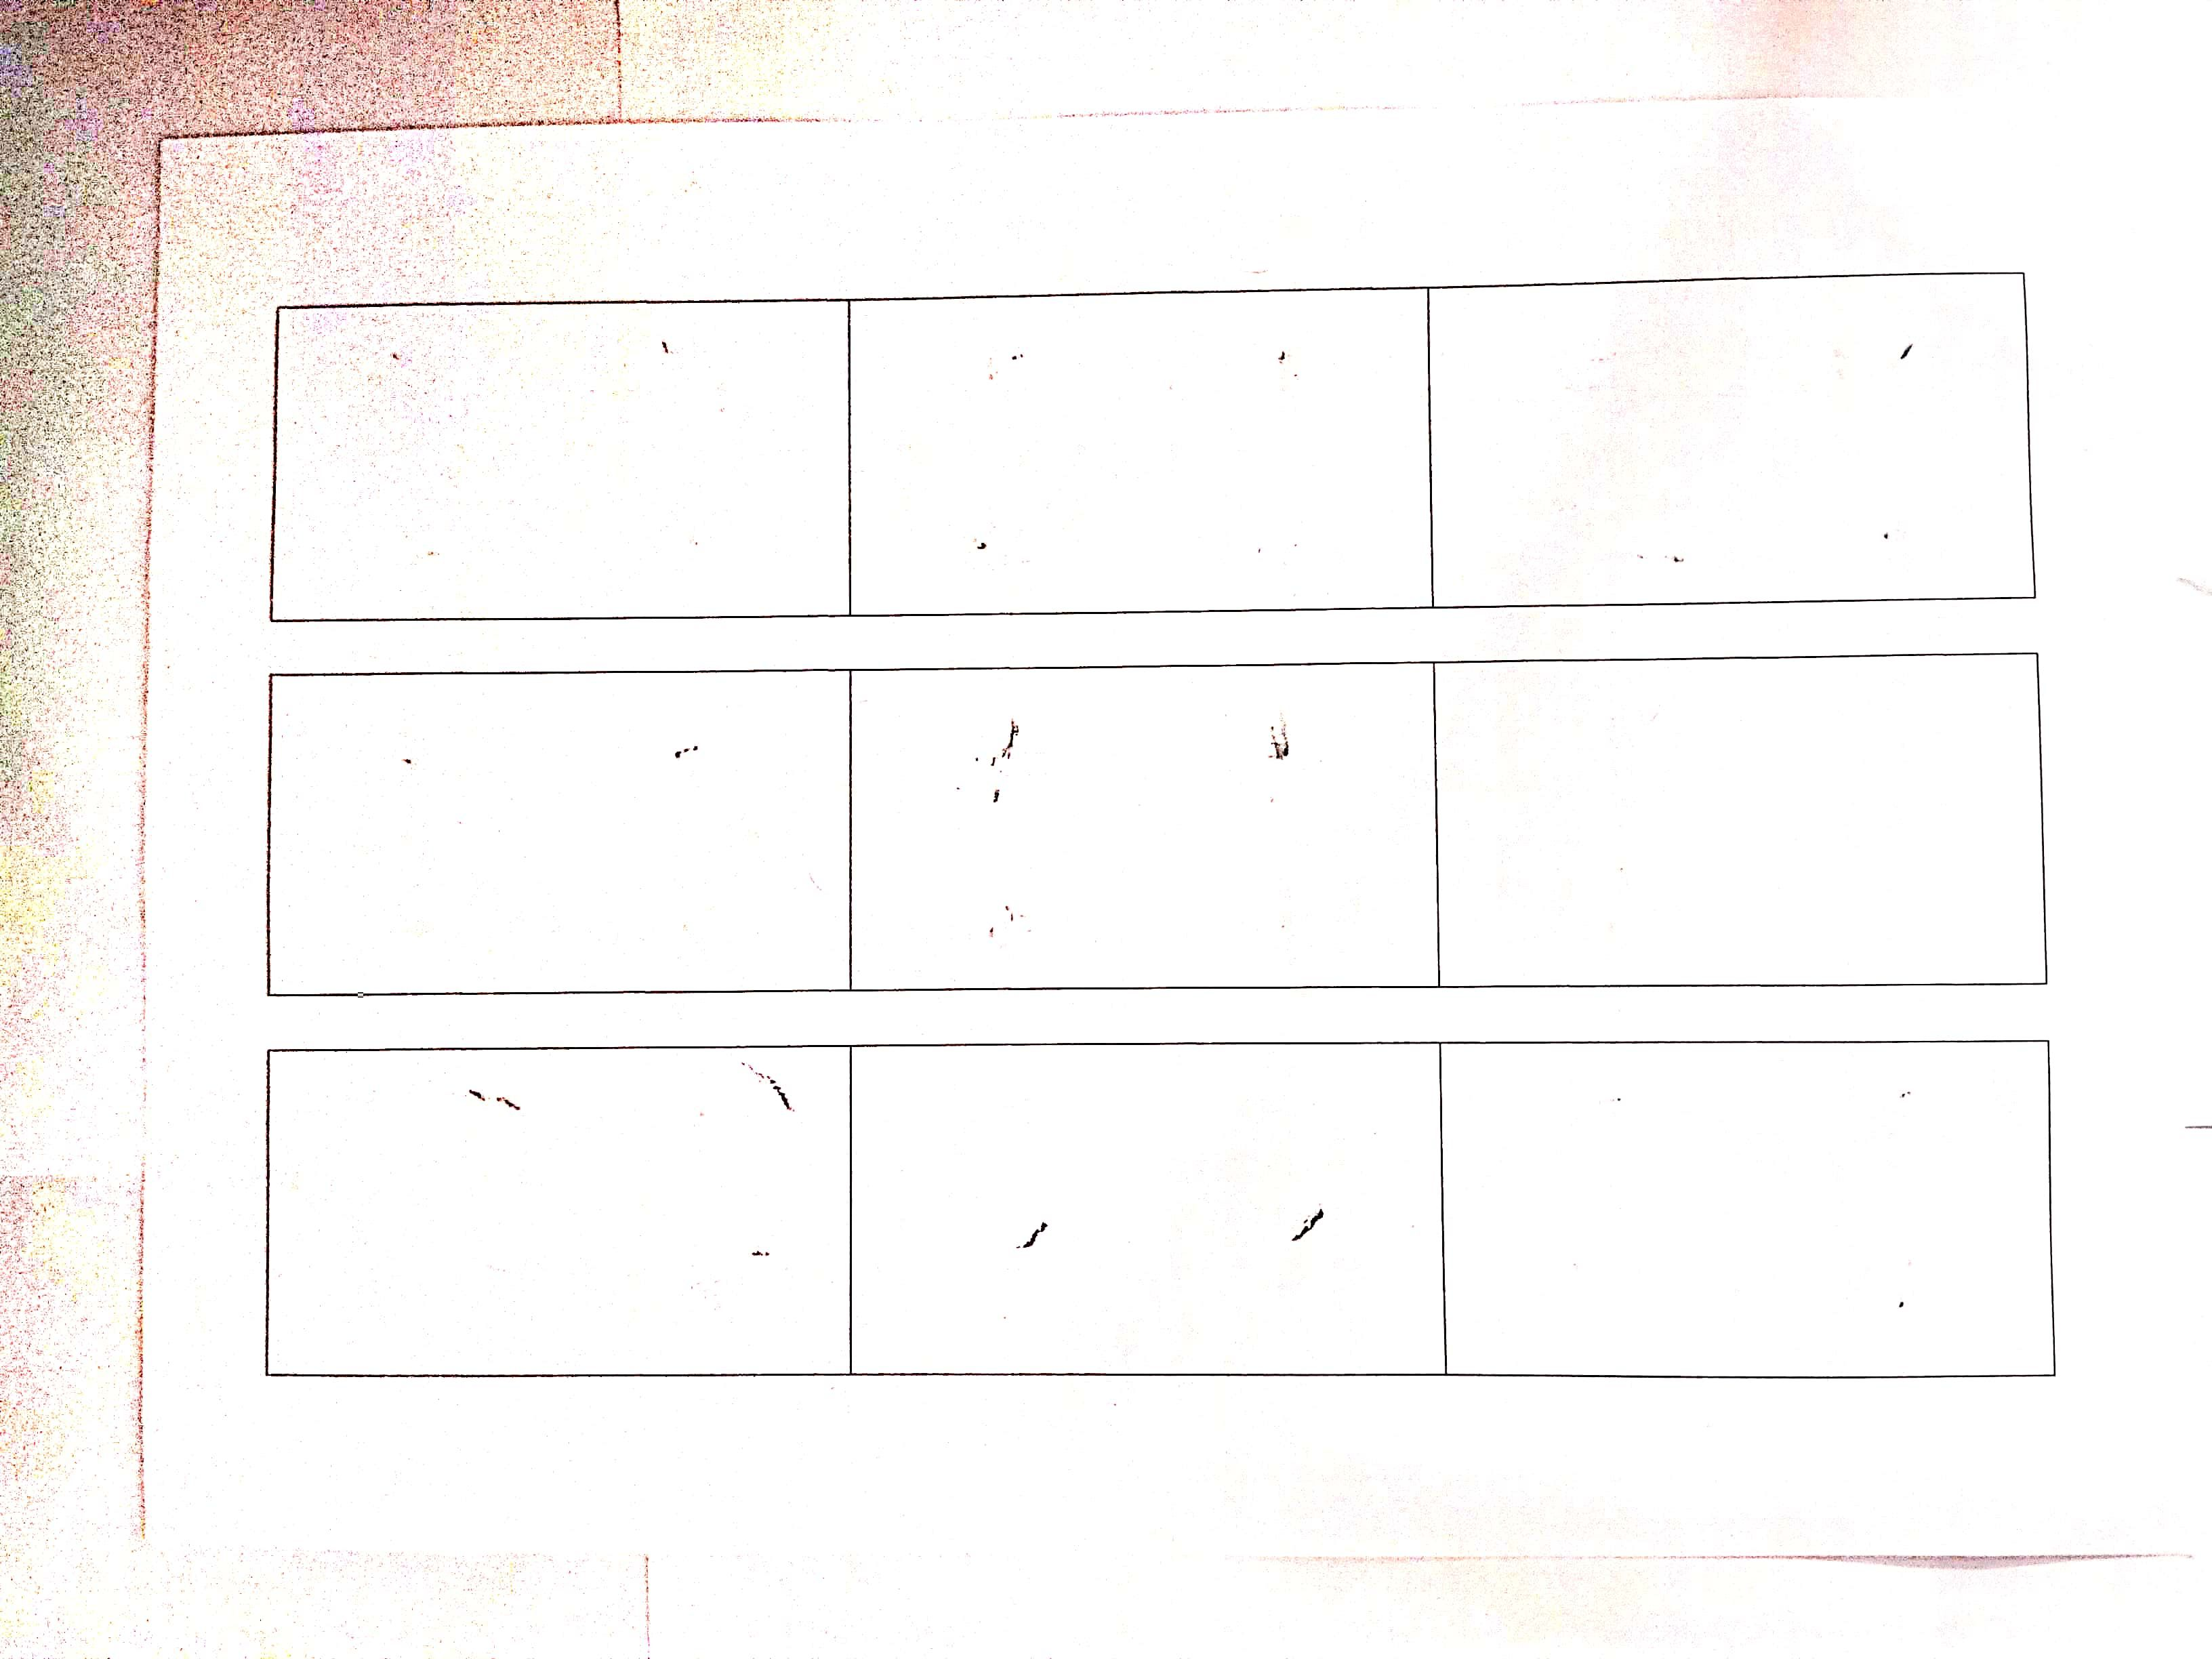Free: (1446, 1037, 2045, 1371), (1446, 653, 2033, 992), (1433, 272, 2020, 603), (845, 666, 1433, 988), (845, 1049, 1433, 1371), (848, 296, 1423, 622), (273, 1053, 845, 1378), (261, 671, 840, 992), (273, 305, 848, 615)
